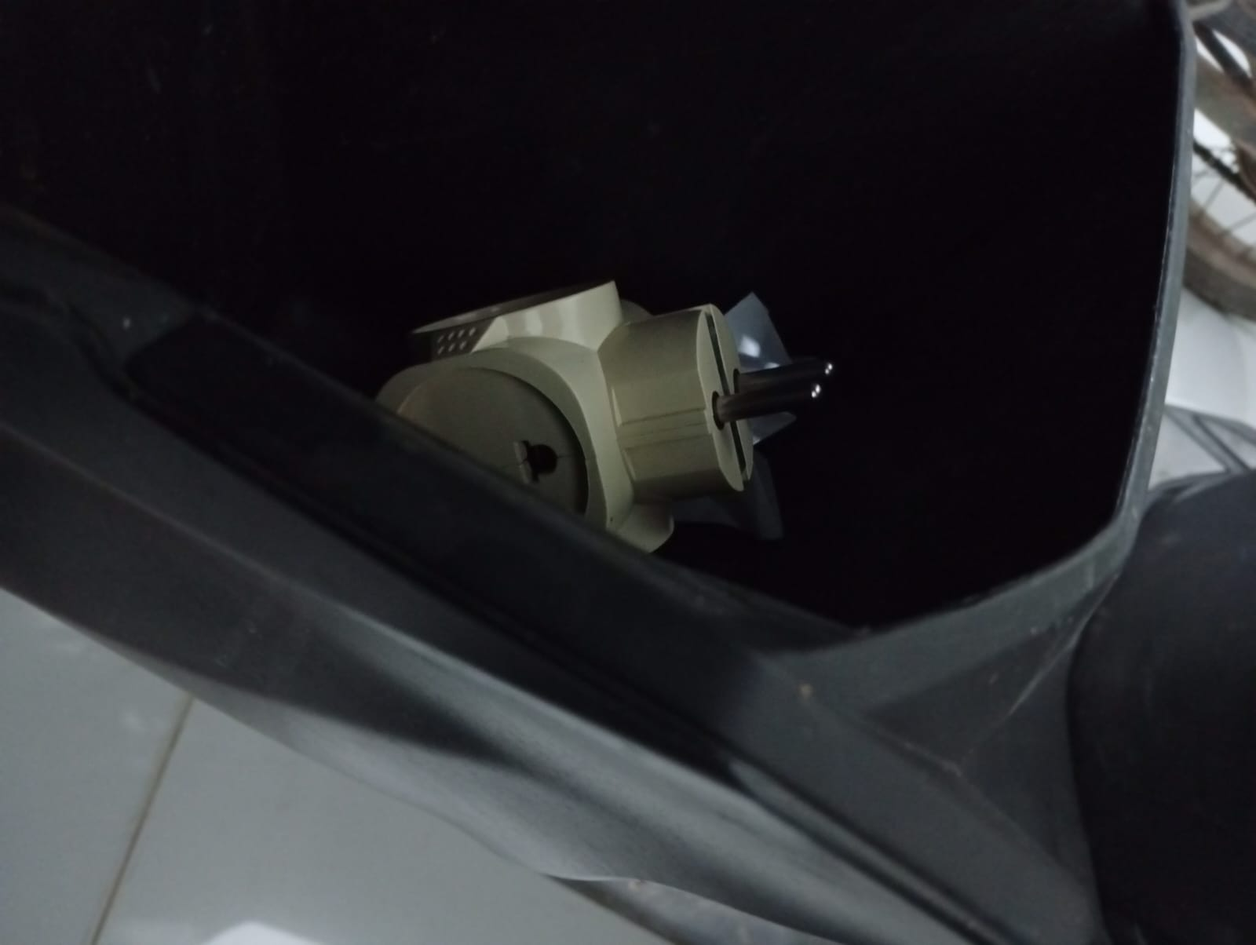Colokan: (346, 251, 856, 577)
